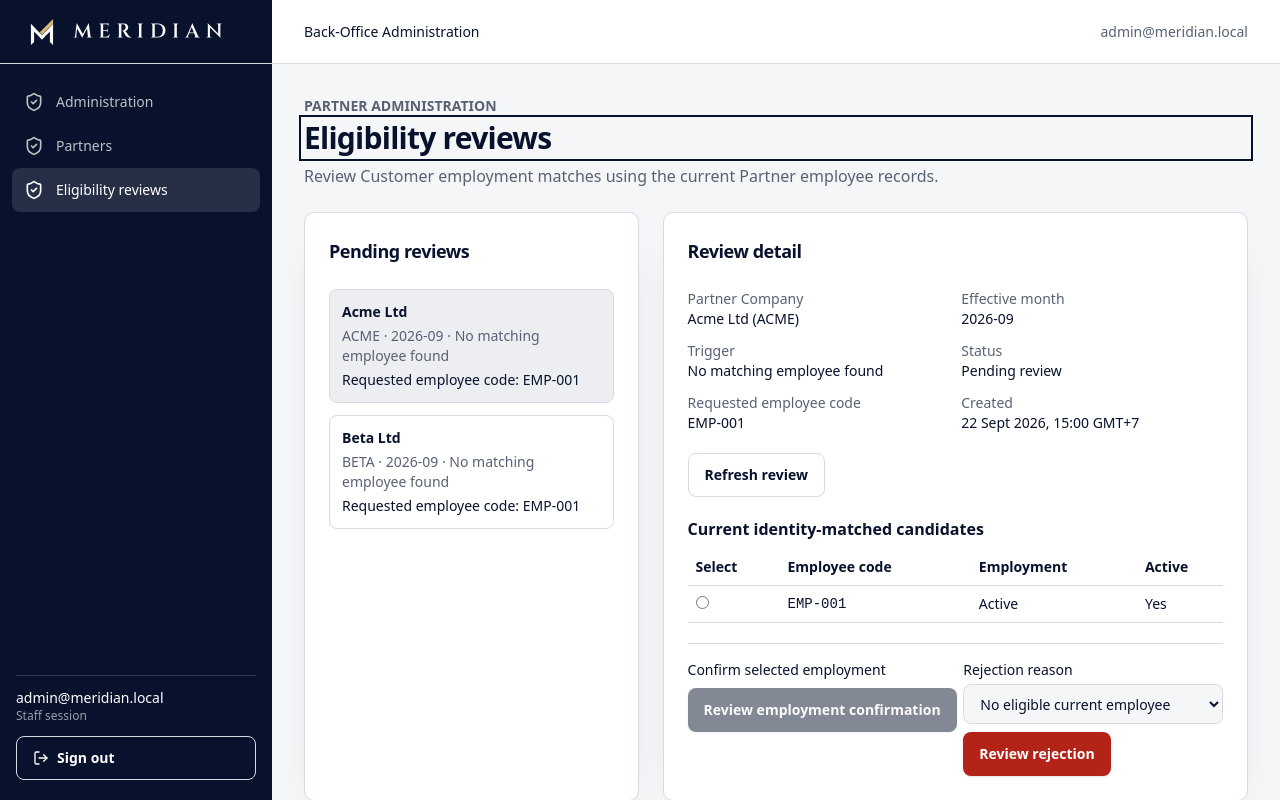
Test: Partner eligibility review page › requires deliberate employee selection and clears it when switching reviews
Expected: the button "Review employment confirmation" is disabled, left=688, top=688, right=957, bottom=732
Click the radio button named "Select EMP-001" at (702, 602), box left=696, top=596, right=708, bottom=609
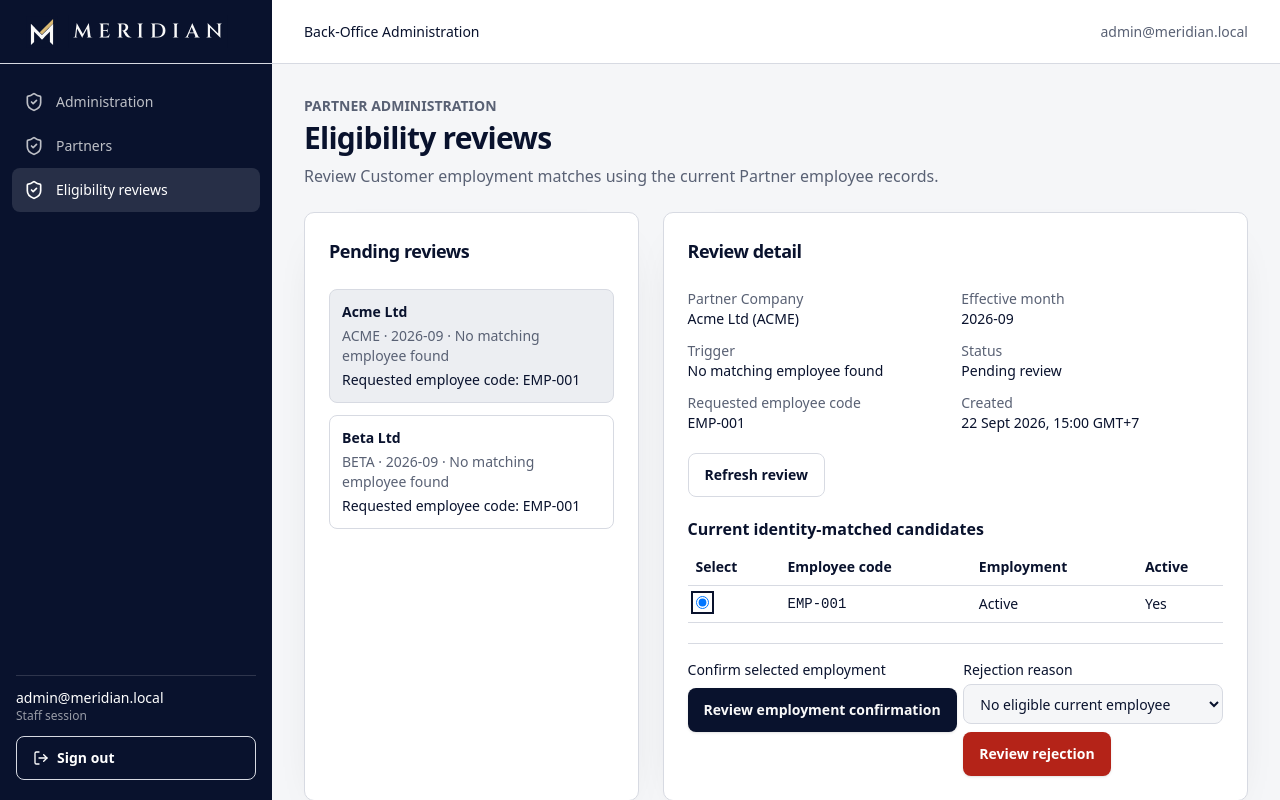
Expected: the button "Review employment confirmation" is enabled, left=688, top=688, right=957, bottom=732
Click the button "Beta Ltd" at (471, 472), box left=329, top=415, right=614, bottom=529
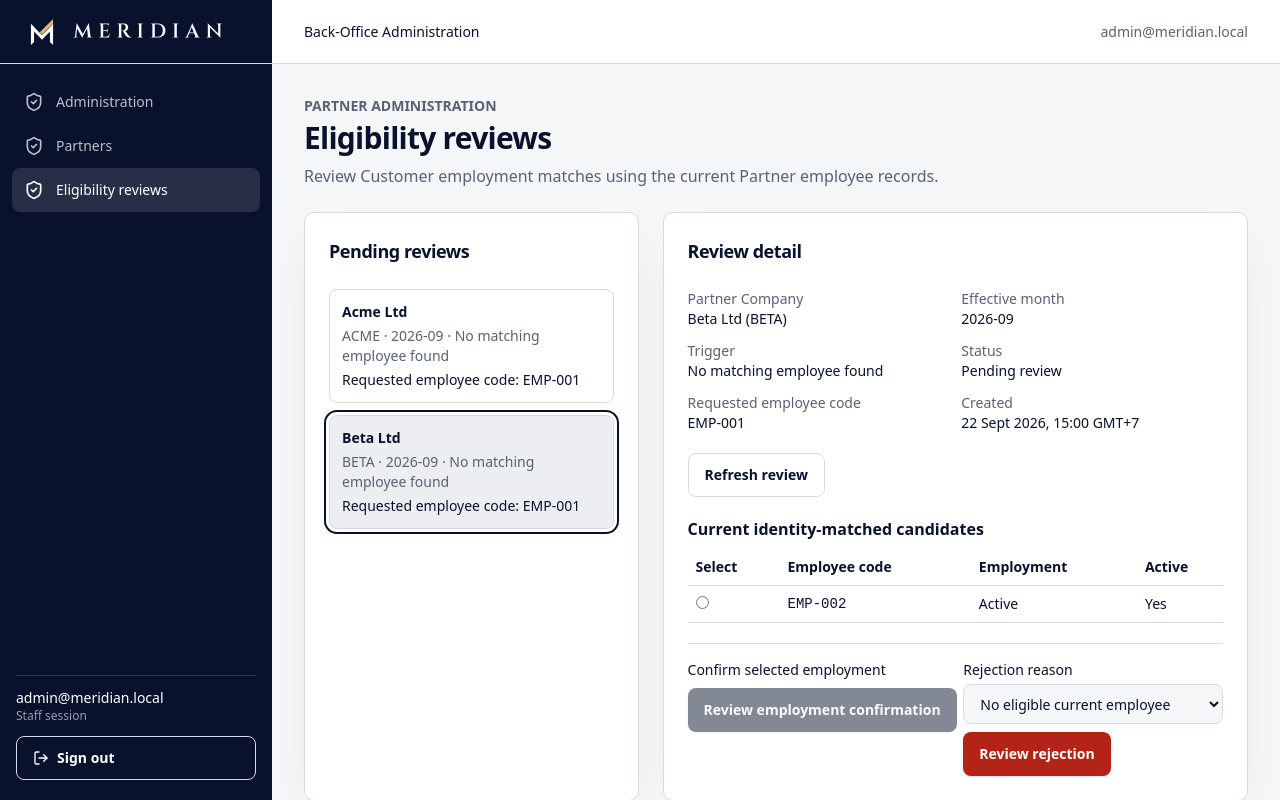
Expected: the radio button named "Select EMP-002" is not checked, left=696, top=596, right=708, bottom=609
Expected: the button "Review employment confirmation" is disabled, left=688, top=688, right=957, bottom=732
